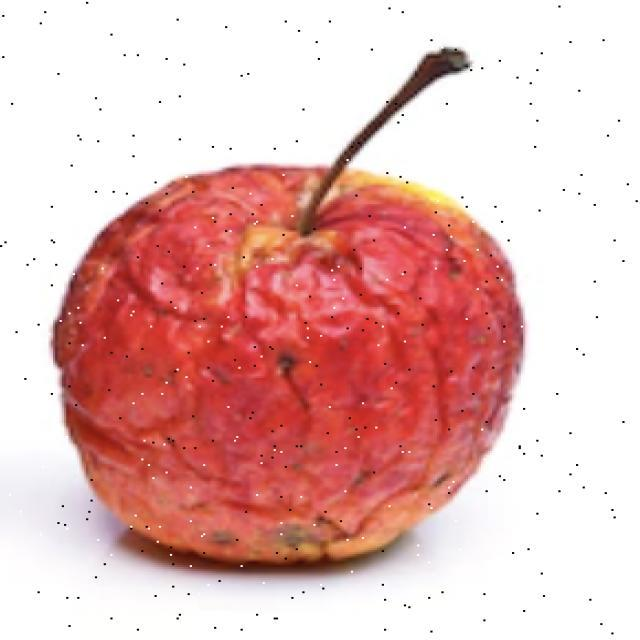Rotten: (62, 155, 518, 557)
